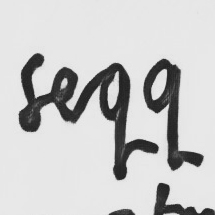e: (49, 64, 81, 126)
q: (141, 56, 193, 172), (94, 60, 134, 182)
s: (14, 51, 47, 135)
